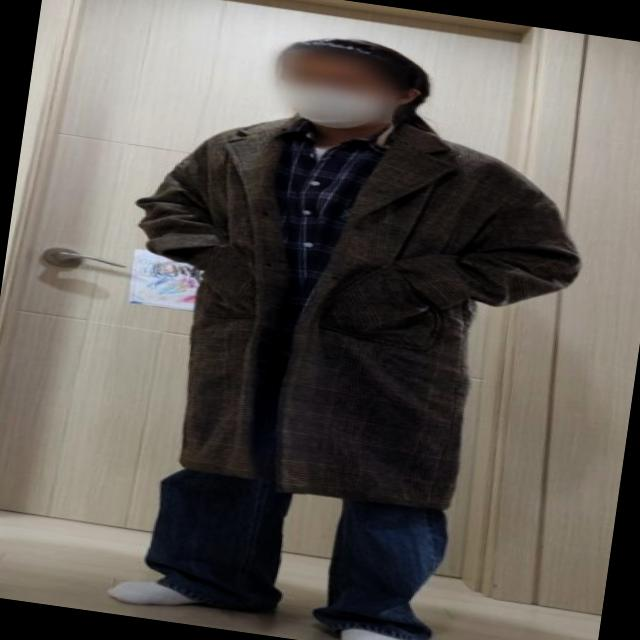coat: (100, 86, 598, 526)
denimpants: (137, 463, 454, 640)
